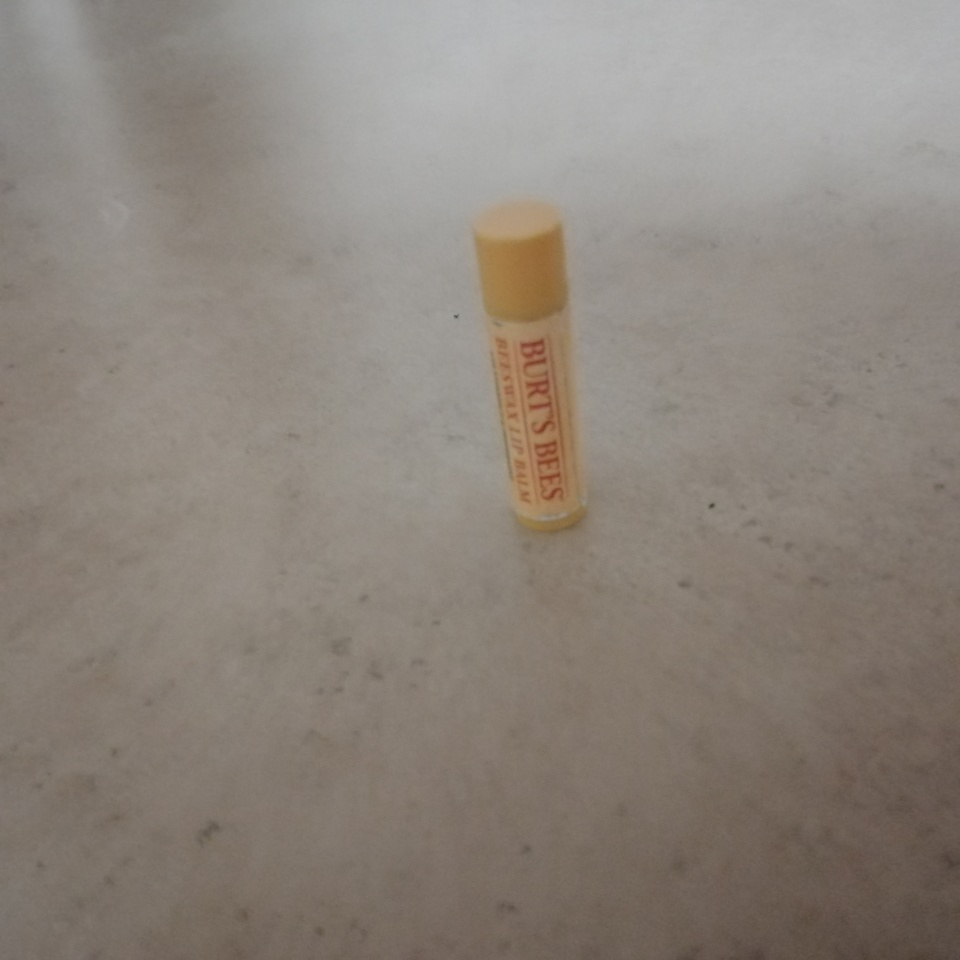chapstick: (472, 198, 589, 534)
